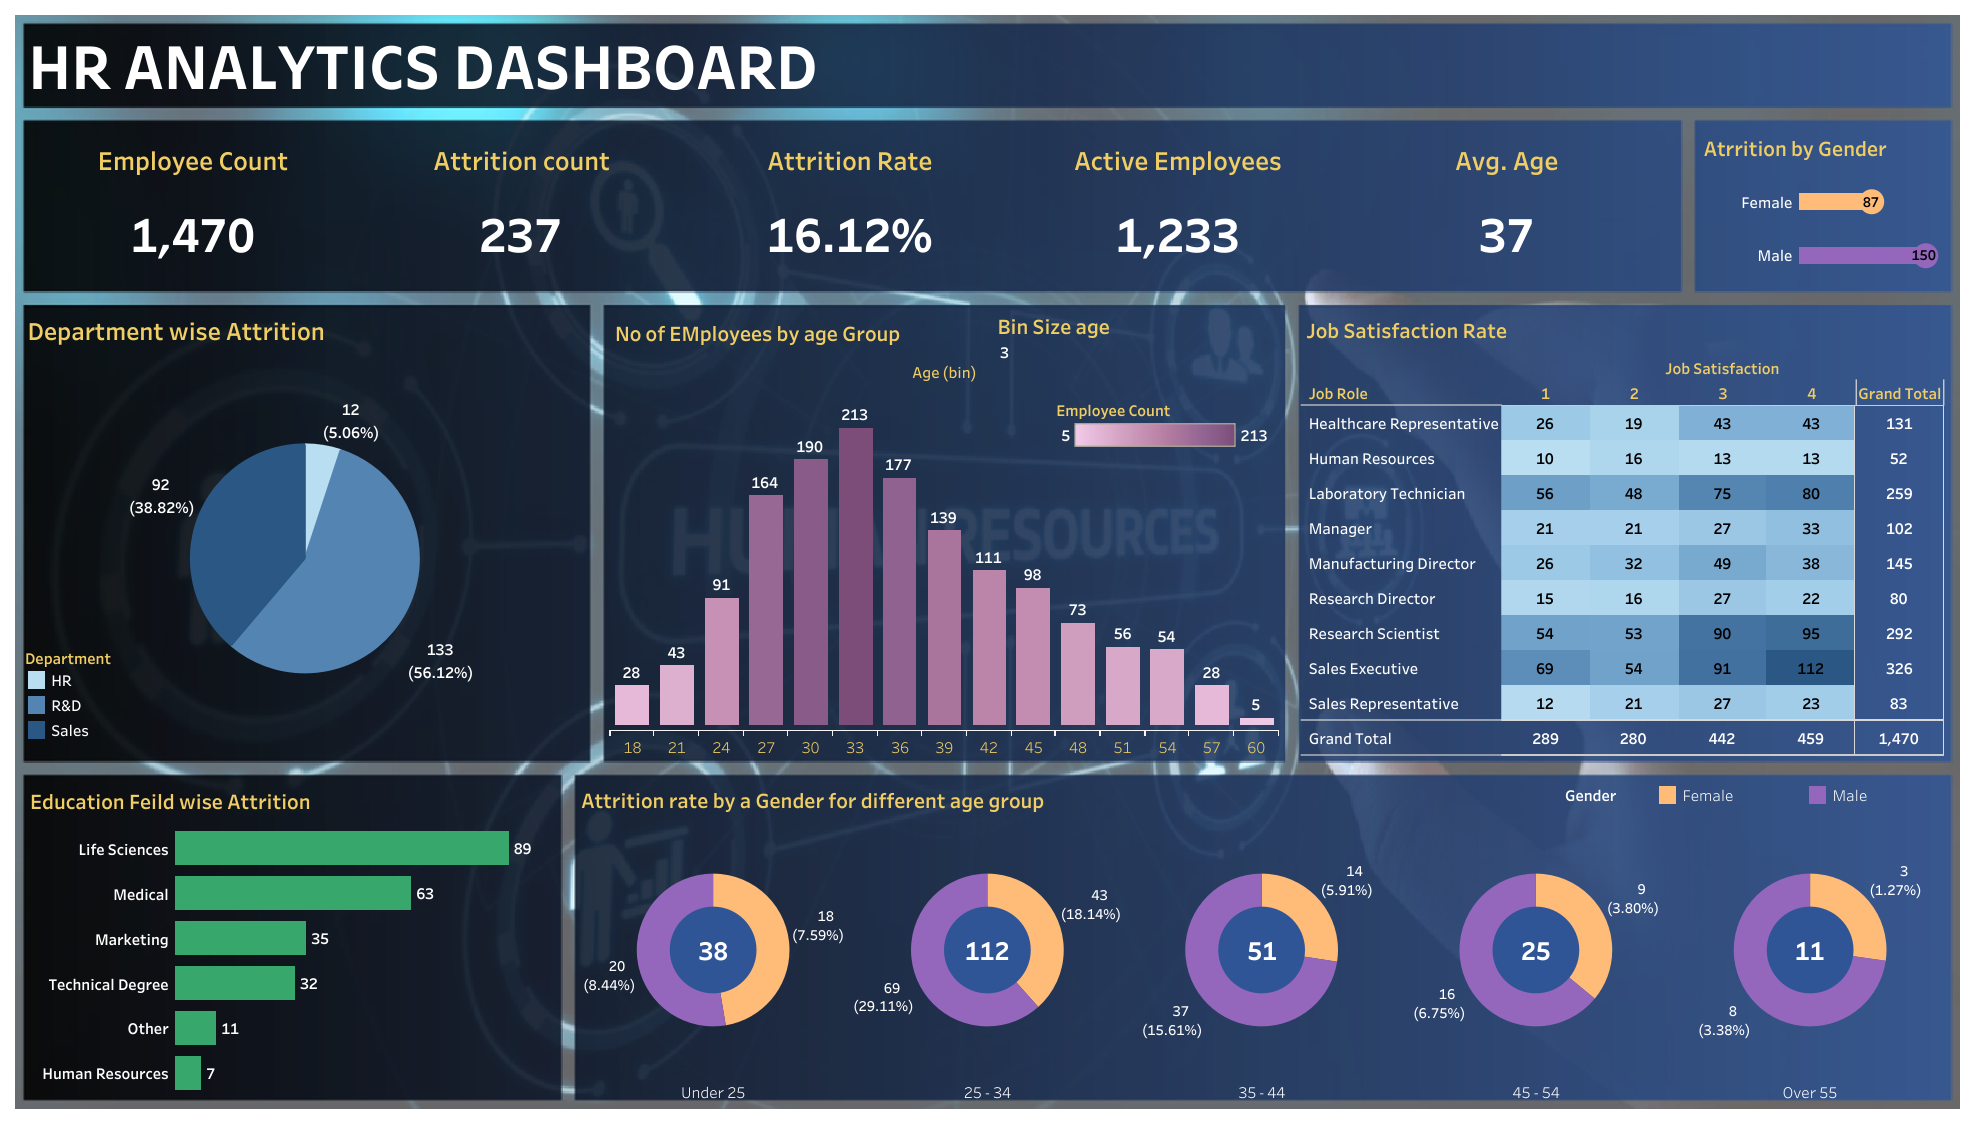

The dashboard page shown, as its layout file describes it:
{"tool":"tableau","page":{"name":"HR Analytics Dashboard ","canvas":[1580,900],"ordinal":0},"visuals":[{"type":"image","param":"Image/HR background.pptx.png","box":[8,8,1564,884]},{"type":"text","box":[20,23,918,55]},{"type":"worksheet","title":"Atrrition by Gender","mark":"Automatic","rows":["Gender"],"cols":["Calculation_1258474638227947520","Calculation_1258474638227947520"],"box":[1359,101,196,124]},{"type":"worksheet","title":"KPI","mark":"Automatic","box":[23,102,1314,127]},{"type":"worksheet","title":"Department wise Attrition ","mark":"Pie","box":[18,245,451,361]},{"type":"worksheet","title":"Job Satisfaction Rate ","mark":"Square","rows":["Job Role"],"cols":["Job Satisfaction"],"box":[1041,246,516,359]},{"type":"parameter","param":"[Parameters].[Parameter 1]","box":[798,248,226,71]},{"type":"worksheet","title":"No of EMployees by age Group","mark":"Automatic","rows":["Employee Count"],"cols":["Age (bin)"],"box":[488,249,535,357]},{"type":"legend","title":"No of EMployees by age Group","param":"[federated.1ai22801mmvafg1b53qse0v2mgi0].[sum:Employee Count:qk]","box":[845,315,174,88]},{"type":"legend","title":"Department wise Attrition ","param":"[federated.1ai22801mmvafg1b53qse0v2mgi0].[none:Department:nk]","box":[19,515,147,93]},{"type":"worksheet","title":"Attrition rate by a Gender for different age group ","mark":"Pie","rows":["Calculation_1166432321328844801","Calculation_1166432321328844801"],"cols":["CF_age band"],"box":[461,622,1097,260]},{"type":"worksheet","title":"Education Feild wise Attrition ","mark":"Automatic","rows":["Education Field"],"cols":["Calculation_1258474638227947520"],"box":[20,623,426,253]},{"type":"legend","title":"Attrition rate by a Gender for different age group ","param":"[federated.1ai22801mmvafg1b53qse0v2mgi0].[none:Gender:nk]","box":[1252,626,304,27]}]}

Visuals, with their boxes in screenshot pixels (x1, y1, x2, y2), scaled from the page's 1580x900 canvas onto the 1974x1124 screenshot:
image: x1=10, y1=10, x2=1964, y2=1114
text: x1=25, y1=29, x2=1172, y2=97
"Atrrition by Gender" worksheet: x1=1698, y1=126, x2=1943, y2=281
"KPI" worksheet: x1=29, y1=127, x2=1670, y2=286
"Department wise Attrition " worksheet (Pie marks): x1=22, y1=306, x2=586, y2=757
"Job Satisfaction Rate " worksheet (Square marks): x1=1301, y1=307, x2=1945, y2=756
parameter: x1=997, y1=310, x2=1279, y2=398
"No of EMployees by age Group" worksheet: x1=610, y1=311, x2=1278, y2=757
"No of EMployees by age Group" legend: x1=1056, y1=393, x2=1273, y2=503
"Department wise Attrition " legend: x1=24, y1=643, x2=207, y2=759
"Attrition rate by a Gender for different age group " worksheet (Pie marks): x1=576, y1=777, x2=1947, y2=1102
"Education Feild wise Attrition " worksheet: x1=25, y1=778, x2=557, y2=1094
"Attrition rate by a Gender for different age group " legend: x1=1564, y1=782, x2=1944, y2=816
